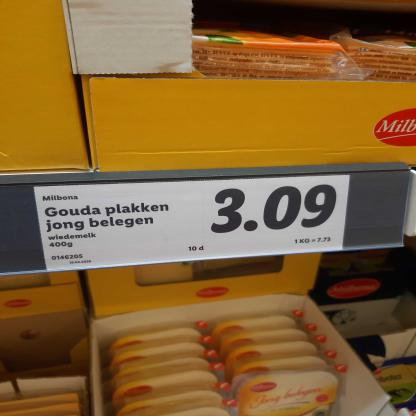prtg: (34, 176, 352, 272)
